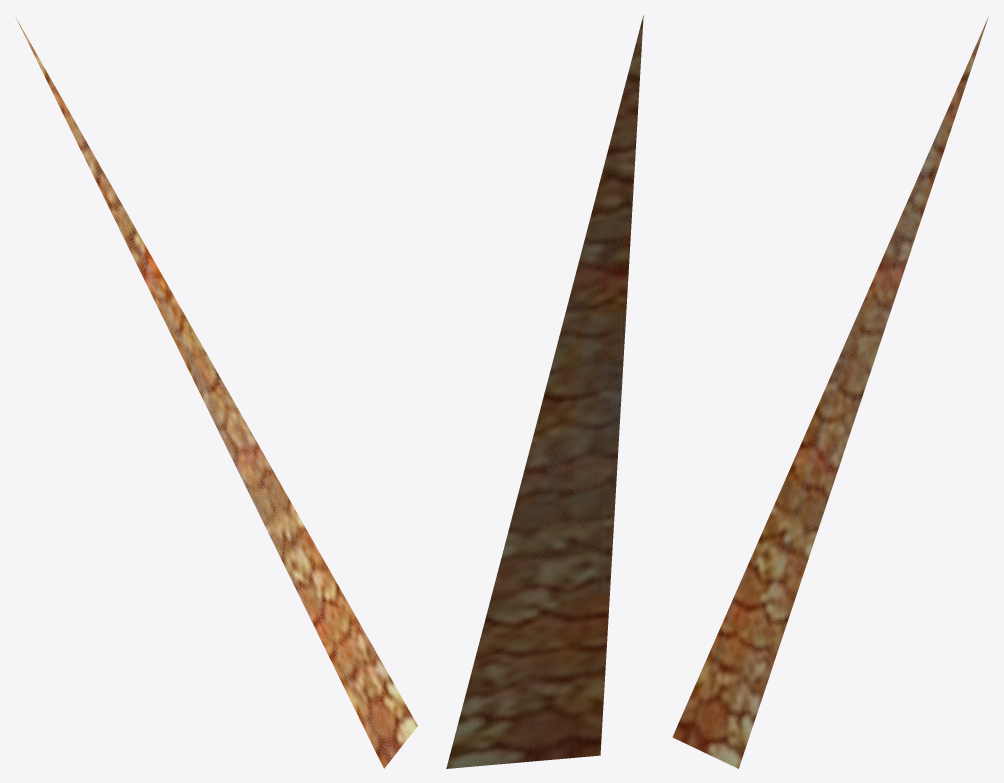
File: 西庸城堡602.dae
The picture shows the model from 3 angles, left to right: view 1: azimuth 30°, elevation 25°; view 2: azimuth 150°, elevation 25°; view 3: azimuth 270°, elevation 25°; orthographic projection. The views are drawn at different scales.
Parts seen in each view (by area): view 1: SketchUp; view 2: SketchUp; view 3: SketchUp.
Boxes of the visible parts, <box> form: SketchUp: <box>15,16,417,768</box>; SketchUp: <box>446,15,643,768</box>; SketchUp: <box>672,16,988,768</box>.
Bounding box in the file's own units: 49.01 × 53.69 × 118.
